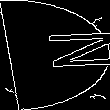N_W: (5, 32, 105, 78)
